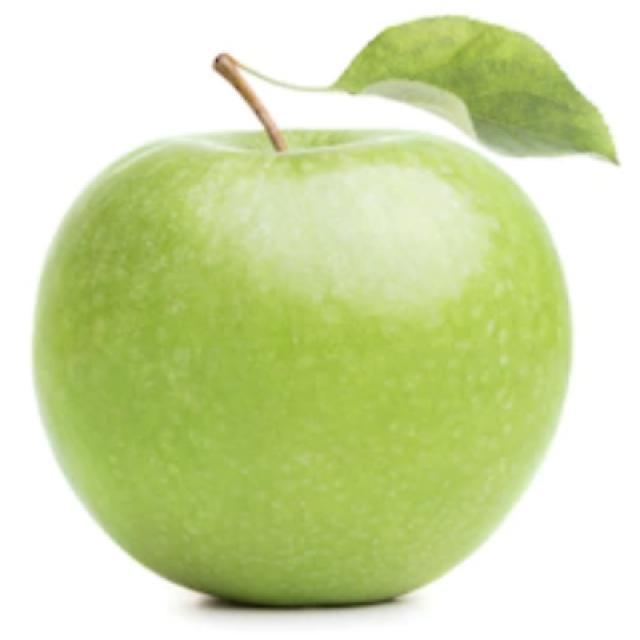Fresh Apple: (45, 120, 558, 640)
